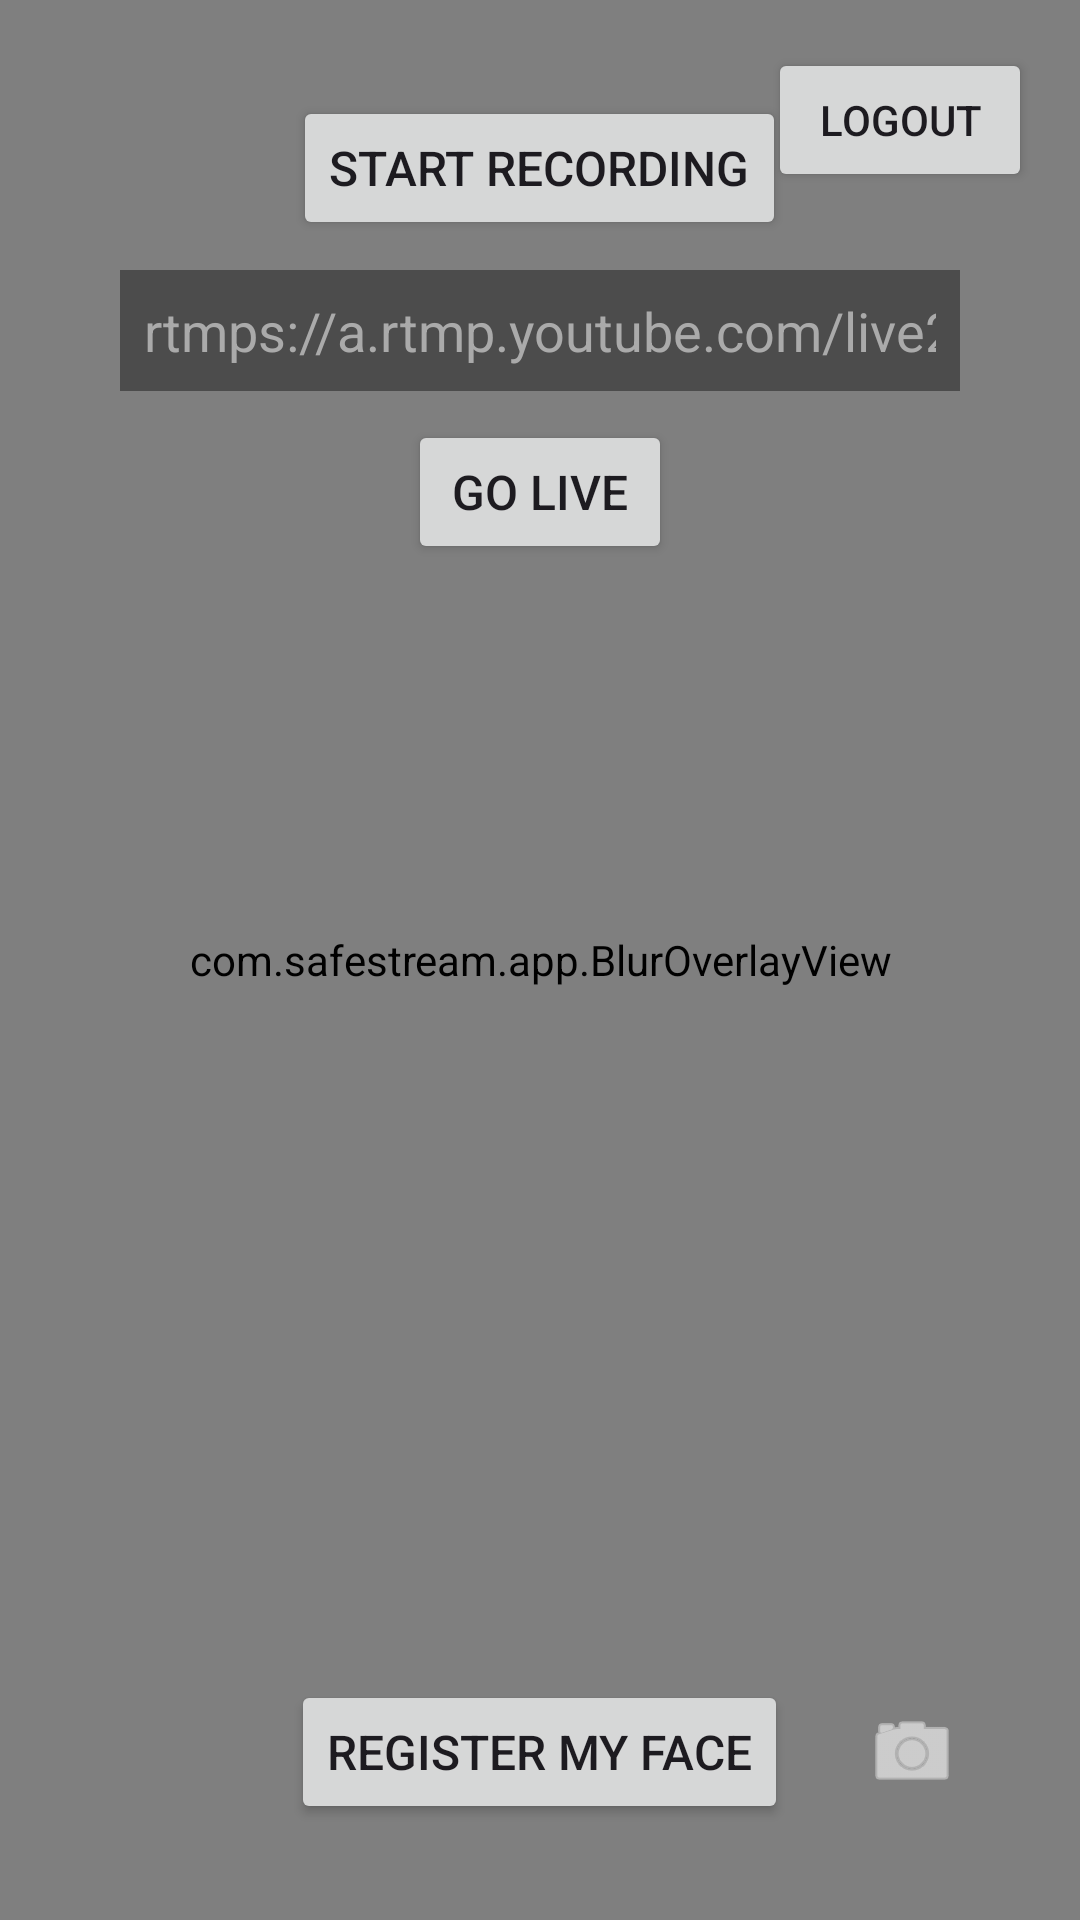

Icons on this 1080*1920 Android screen, each with the point to tap as (x=x, y=y):
Switch Camera: (x=912, y=1750)
